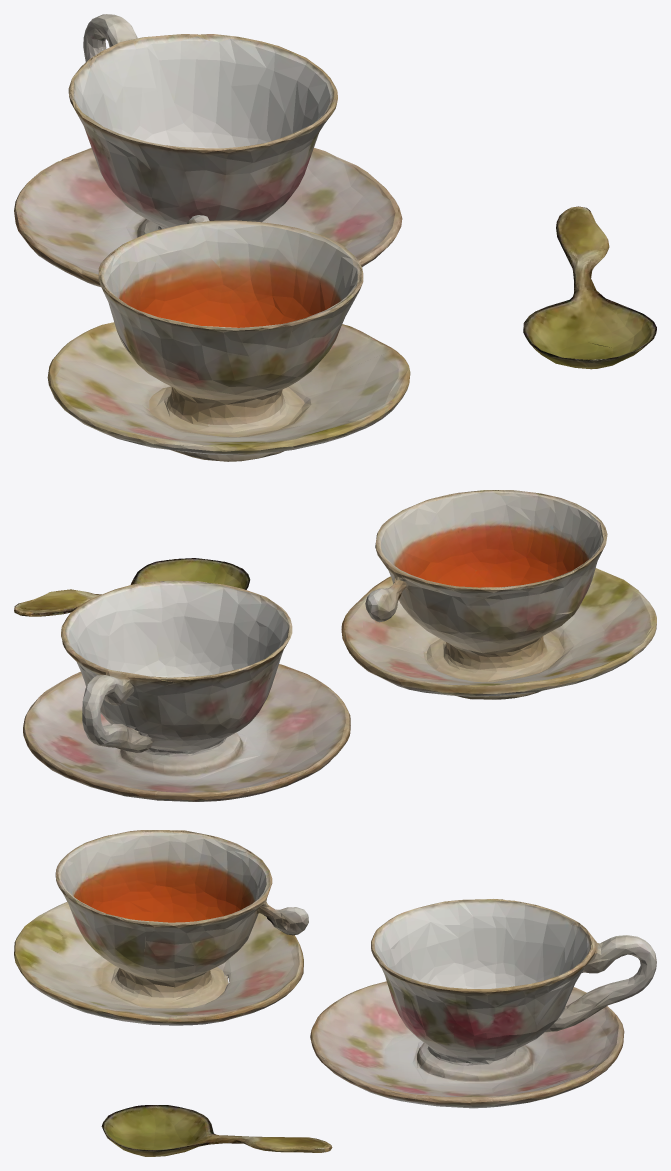
3 renders of one model, top to bottom at view 1: azimuth 30°, elevation 25°; view 2: azimuth 150°, elevation 25°; view 3: azimuth 270°, elevation 25°, orthographic. The views are drawn at different scales.
Visible parts, largest first — view 1: world; view 2: world; view 3: world.
Part boxes in pixels (left/top/right/bottom): world: left=14, top=14, right=656, bottom=461; world: left=14, top=490, right=656, bottom=801; world: left=14, top=830, right=656, bottom=1156.
Size of the model in its own units: 0.8975 by 0.2381 by 1.
1 material, 1 textured.
